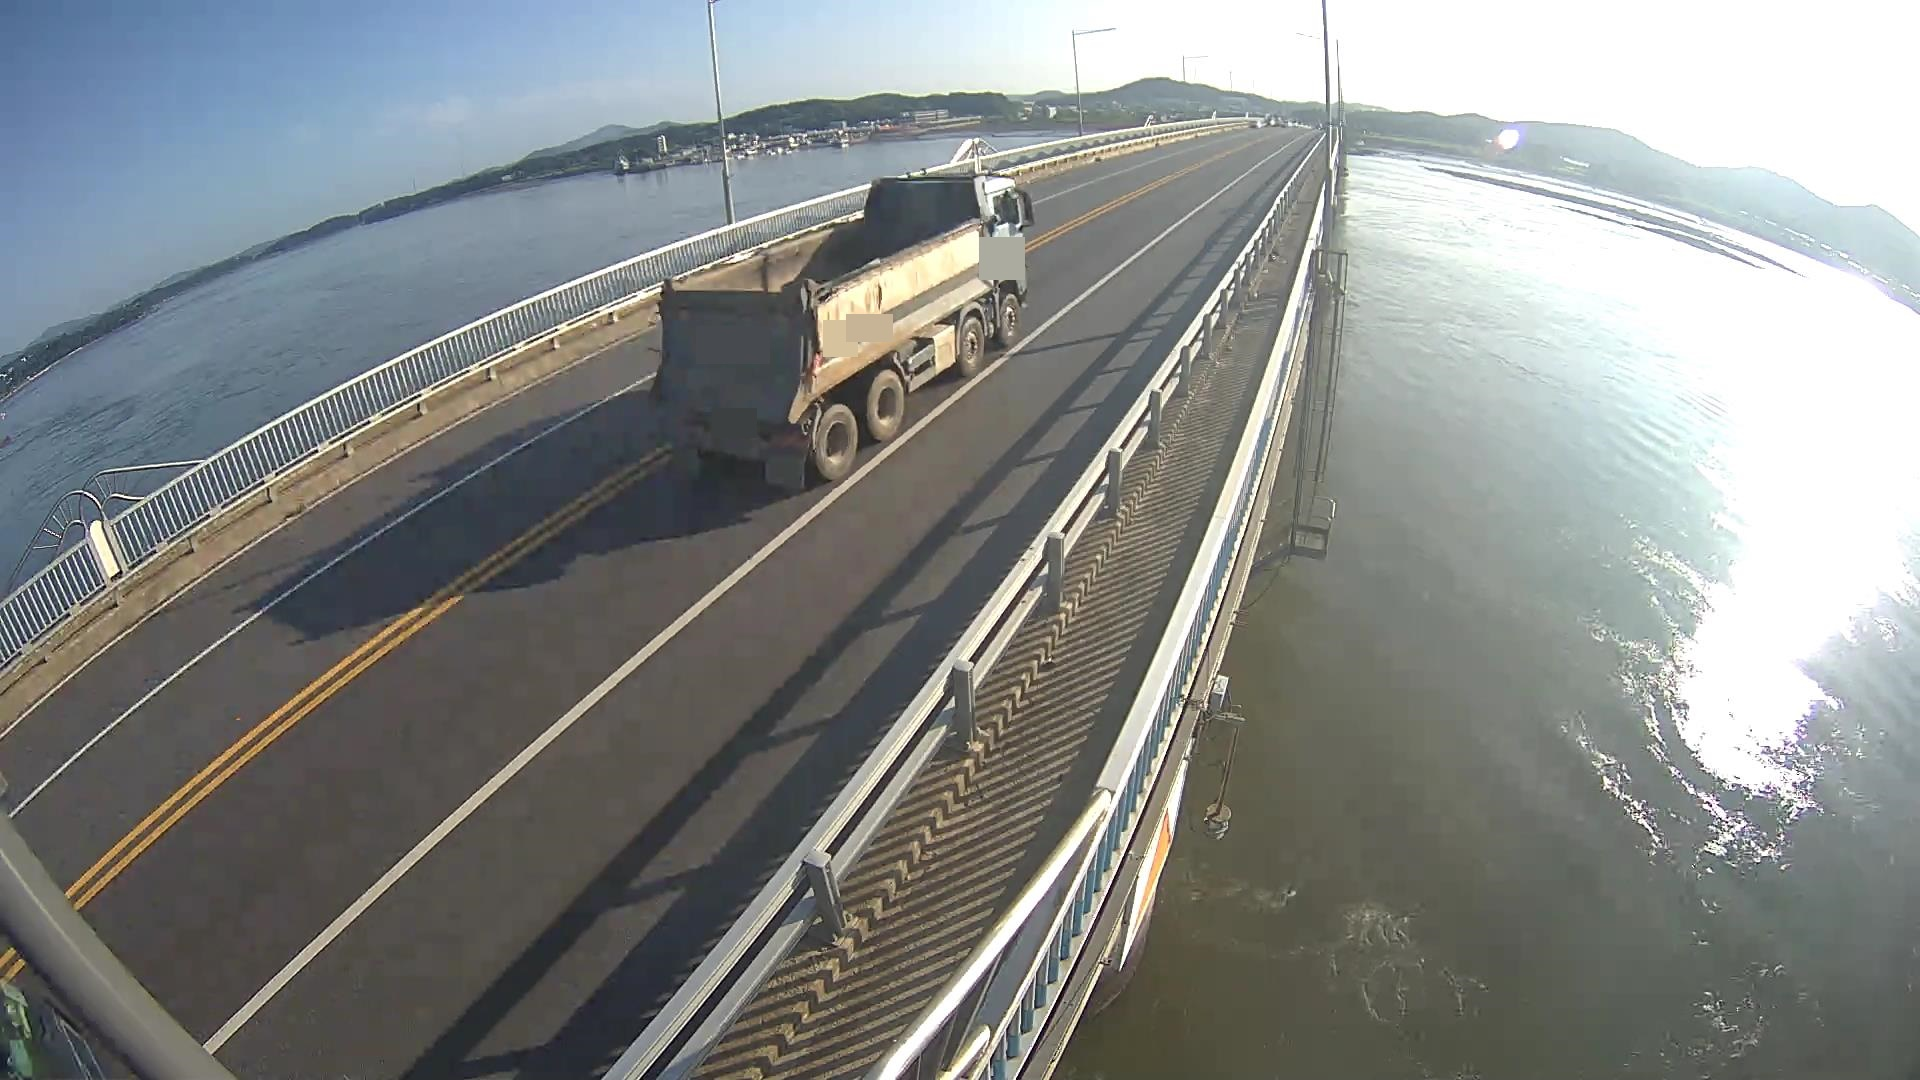정상차량: (647, 169, 1035, 489)
